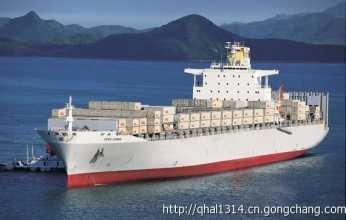Cargoship: (39, 32, 333, 186)
otherboat: (17, 147, 66, 176)
